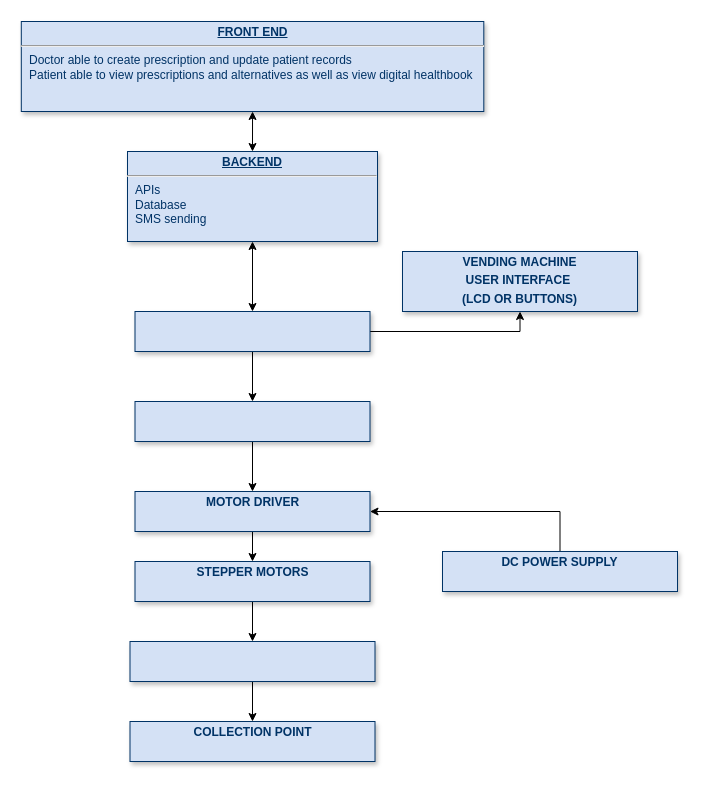
The diagram is 702 pixels wide and 786 high, and some of its shapes have lost their labels. The centre of each missing label's shape, as x and y in pixels:
ARDUINO: the point at 253,422
CAROUSEL TO DISPENSE: the point at 253,662
RASPBERRY PI MICROPROCESSOR: the point at 253,332
